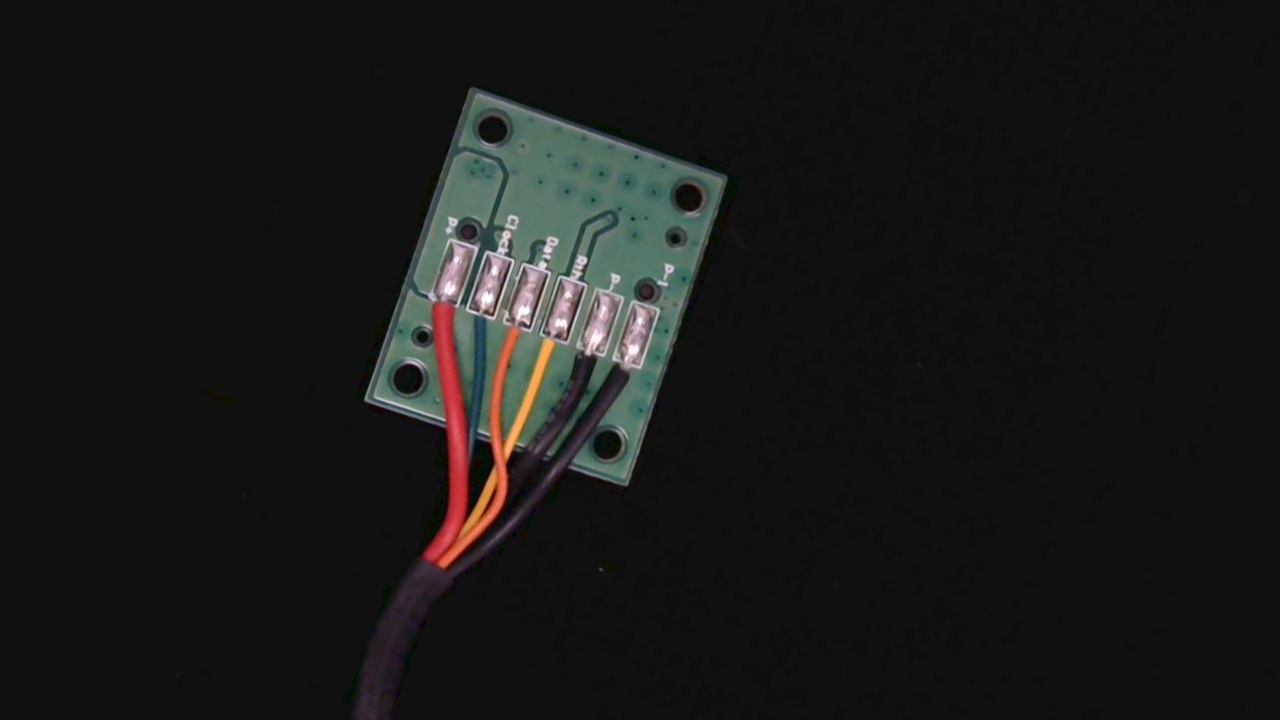Black: (554, 332, 611, 412)
Black1: (597, 341, 651, 415)
Green: (448, 291, 503, 365)
Orange: (481, 307, 537, 386)
Red: (409, 281, 465, 359)
Yellow: (520, 317, 577, 398)
